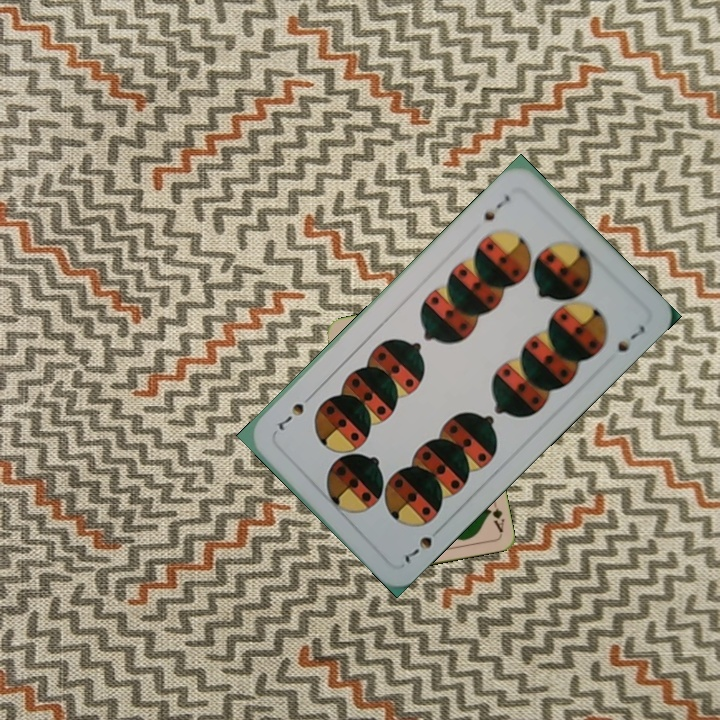GA: (485, 495, 507, 535)
S7: (400, 522, 445, 569), (480, 190, 513, 224)
